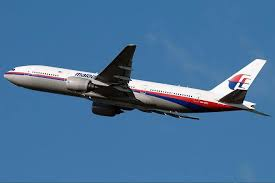maybay_dansu: (4, 43, 262, 123)
